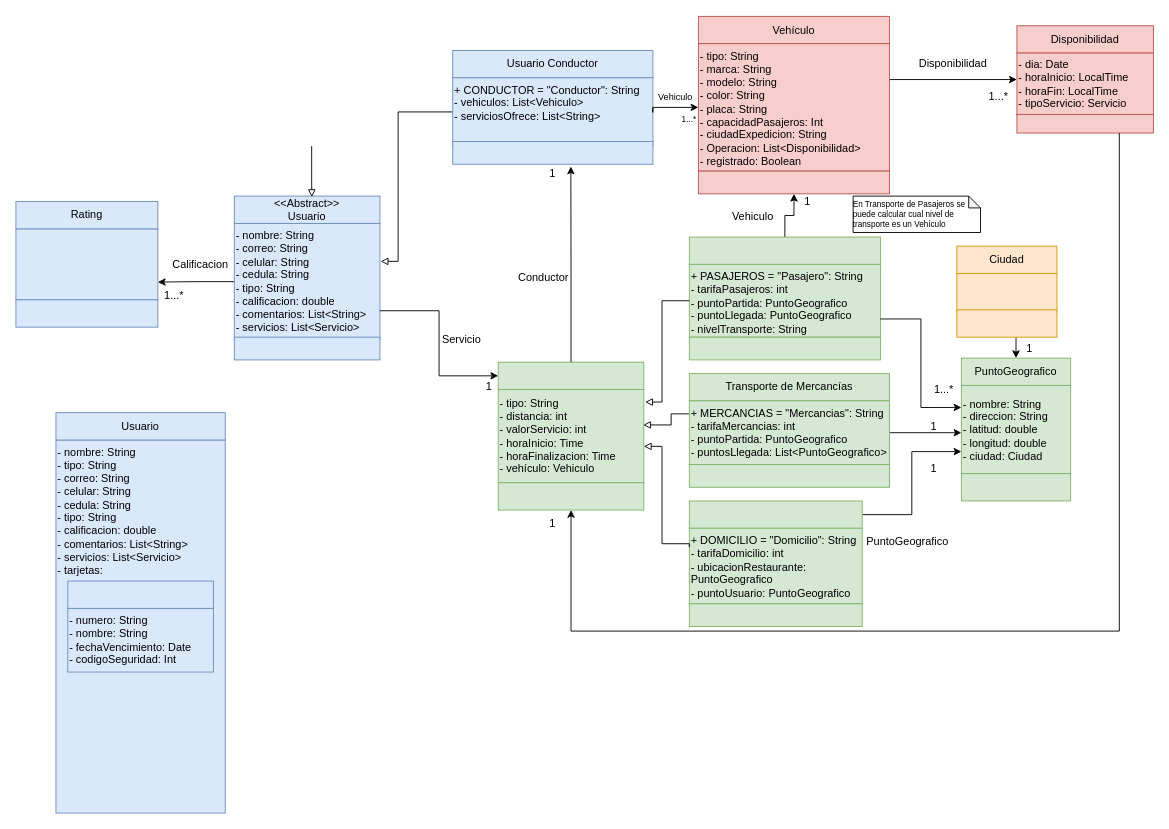
The diagram is 1169 pixels wide and 829 high, and some of its shapes have lost their labels. The box of each missing label's shape, as (x1, y1, x2, y2) in pixels:
- idCiudad: int - nombre: String: (956, 273, 1057, 313)
- revisor: Usuario - revisado: Usuario - comentario: String - rating: double: (15, 228, 158, 300)
<<Abstract>> Servicio: (497, 361, 644, 389)
Entrega comida a domicilio: (688, 500, 862, 528)
Tarjeta de Crédito []: (67, 580, 213, 608)
Transporte de Pasajeros: (688, 236, 880, 264)
